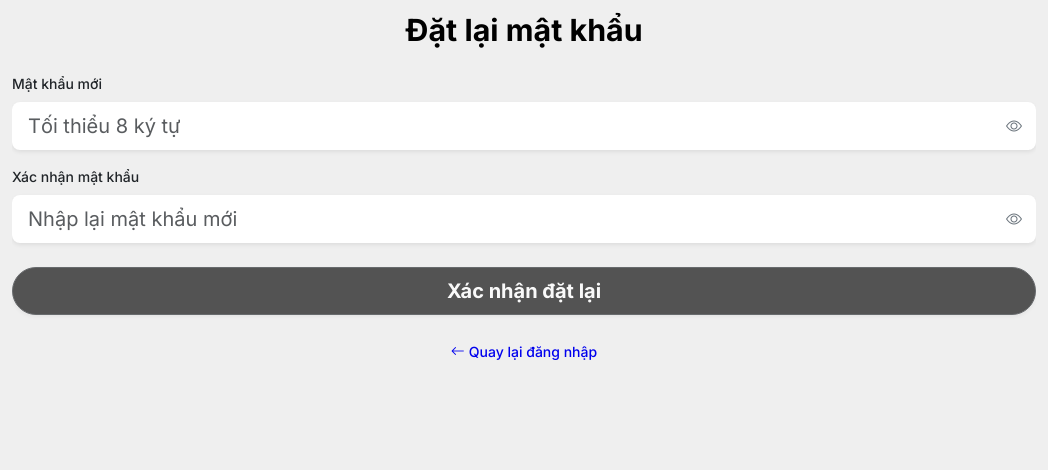
Scenario: ResetPwdForm Component › handles successful password reset and redirects (USER-06)
Step 1. Type "secret123" into the password field with test id "password-input" → (524, 126), box [12,102,1036,150]
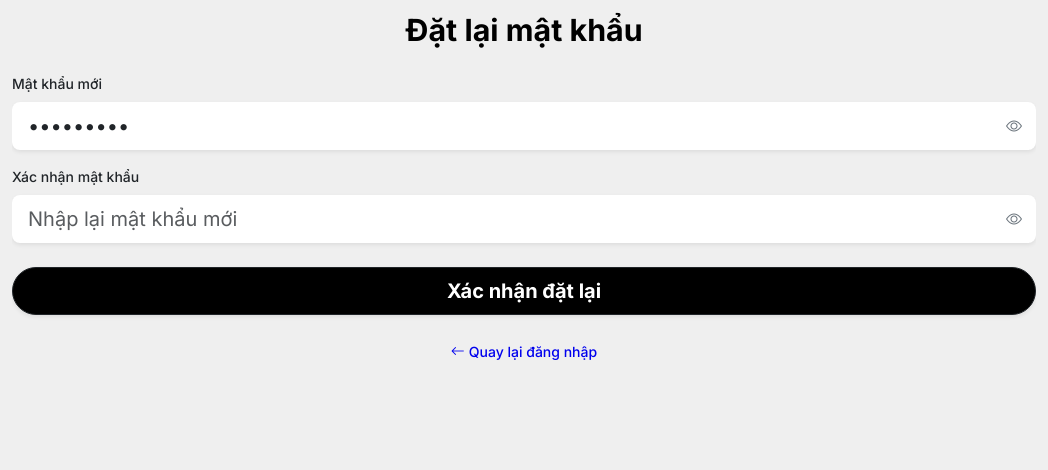
Step 2. Type "secret123" into the password field with test id "confirm-password-input" → (524, 218), box [12,194,1036,242]
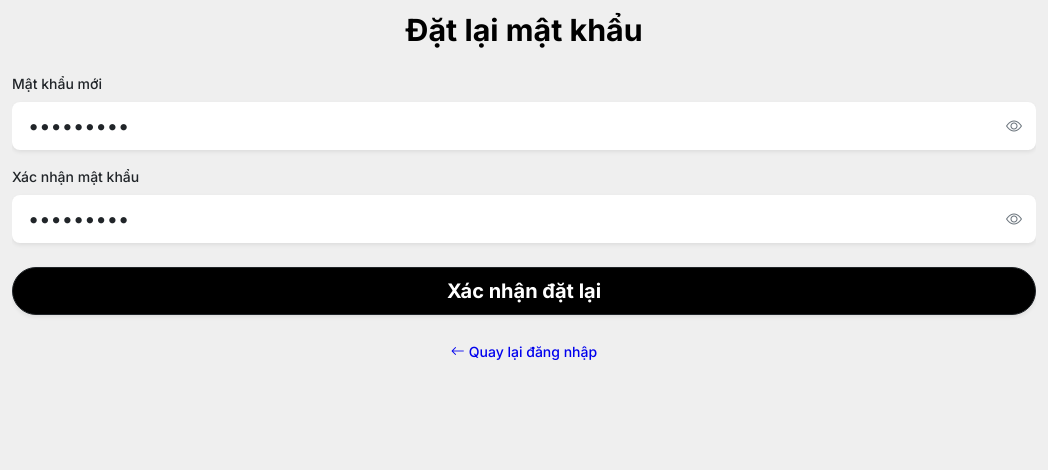
Step 3. Click the button with test id "submit-btn" → (524, 290), box [12,266,1036,314]
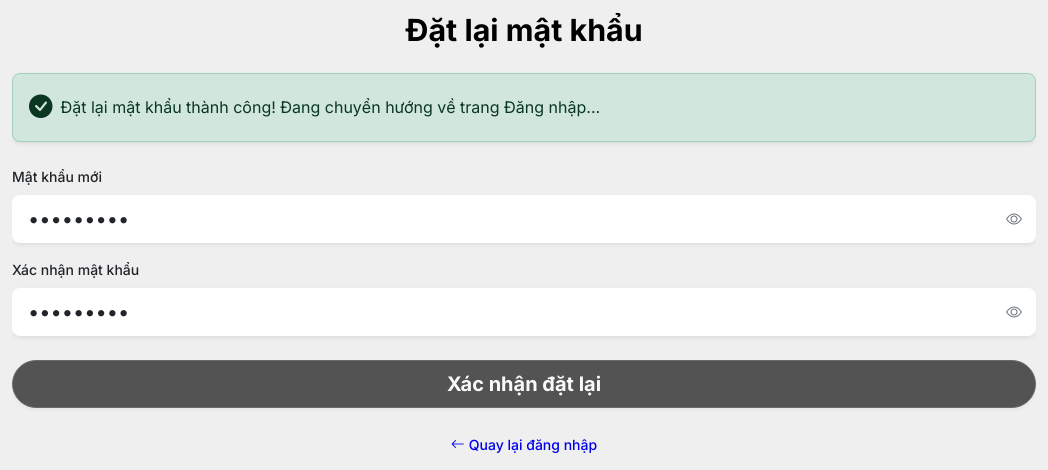
Check: the password field with test id "password-input" is disabled, box [12,195,1036,243]
Check: the message "Đặt lại mật khẩu thành công! Đang chuyển hướng về trang Đăng nhập..." is shown, box [12,72,1036,142]
